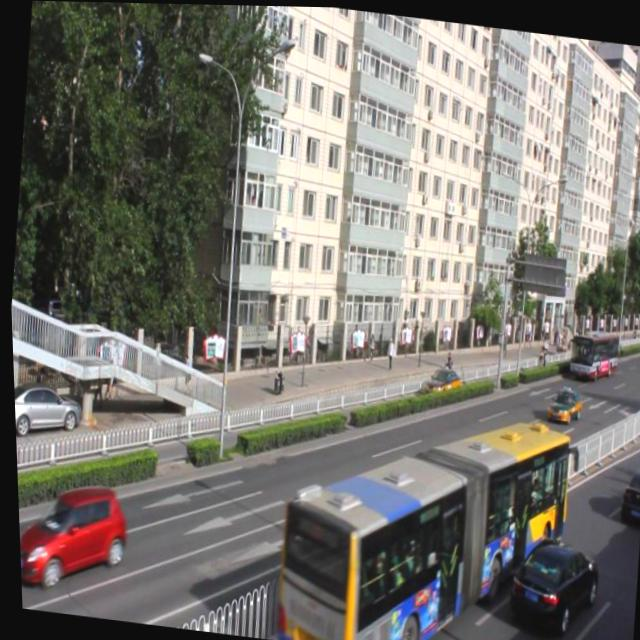car: (14, 472, 126, 593), (502, 531, 597, 632), (613, 459, 640, 521), (540, 381, 579, 421), (420, 361, 456, 395)
van: (261, 387, 569, 640)
